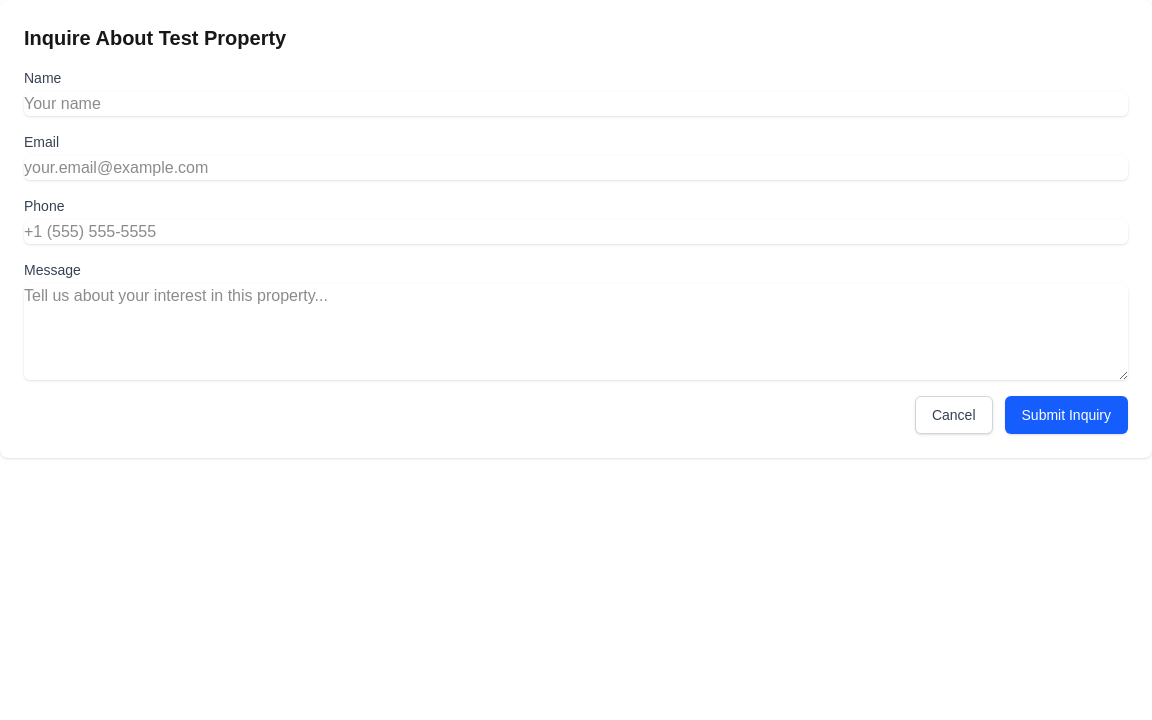
Test case: InquiryForm › shows validation error for invalid email
In the field labelled "Name": (576, 104) [24,92,1128,116], type "John Doe"
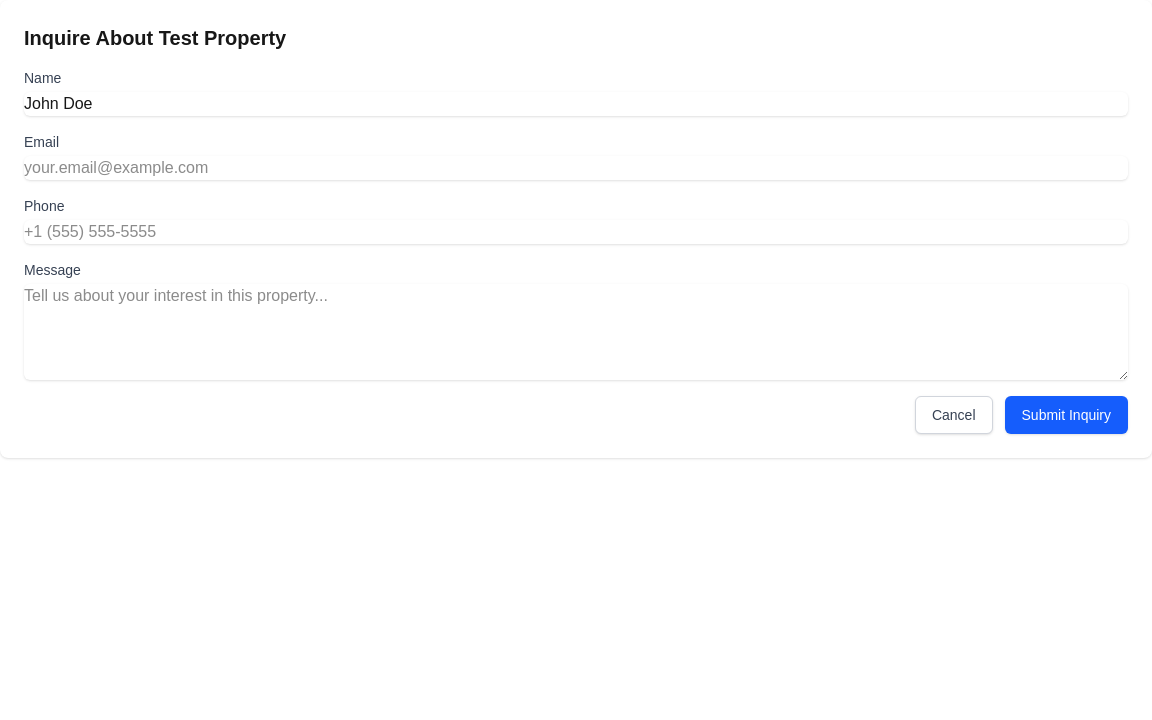
In the field labelled "Email": (576, 168) [24,156,1128,180], type "invalid-email"
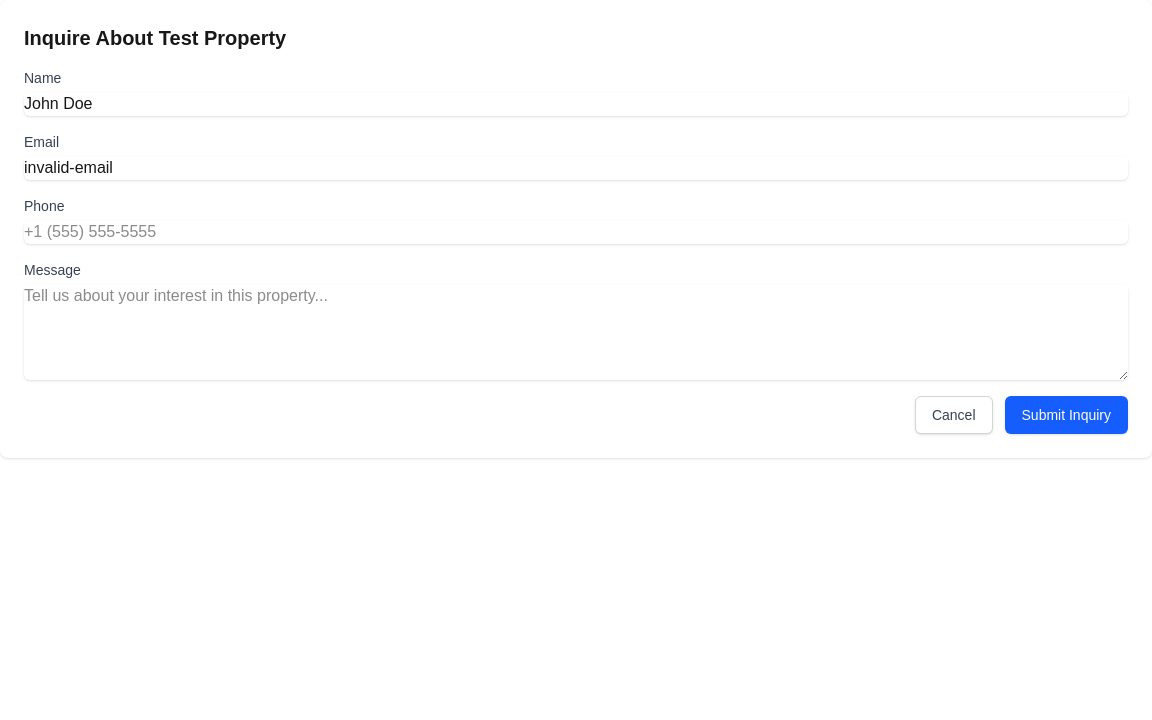
In the field labelled "Phone": (576, 232) [24,220,1128,244], type "+15555555555"
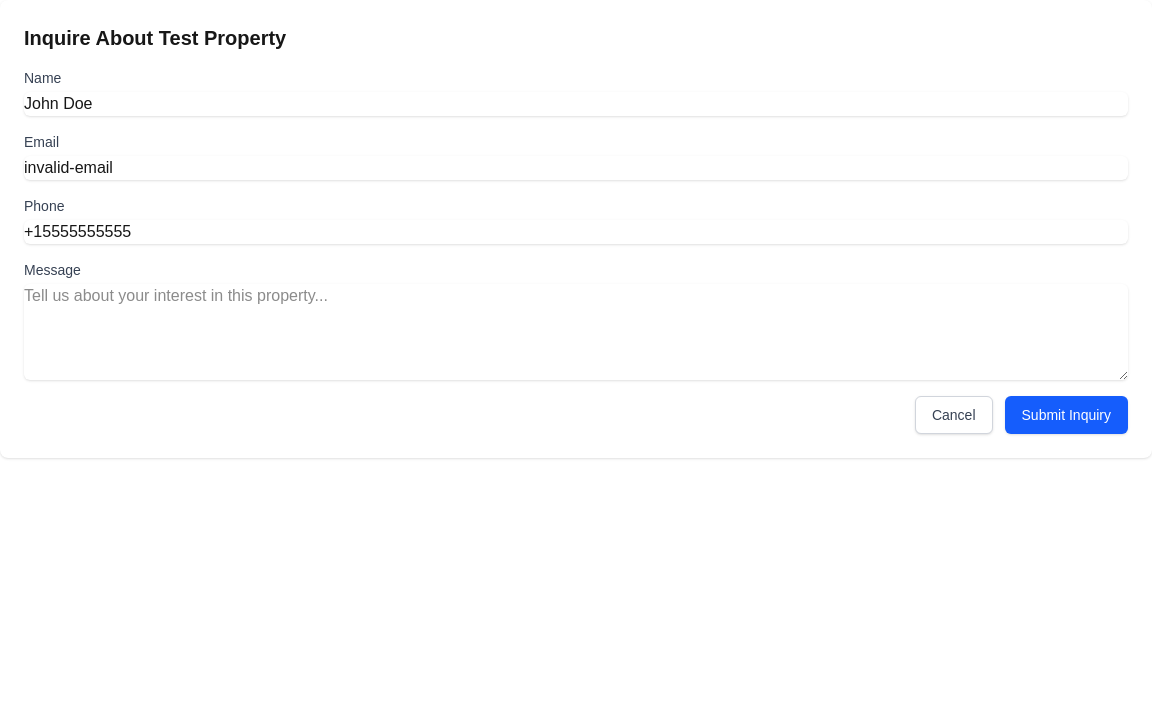
In the text box labelled "Message": (576, 332) [24,284,1128,380], type "Hello"
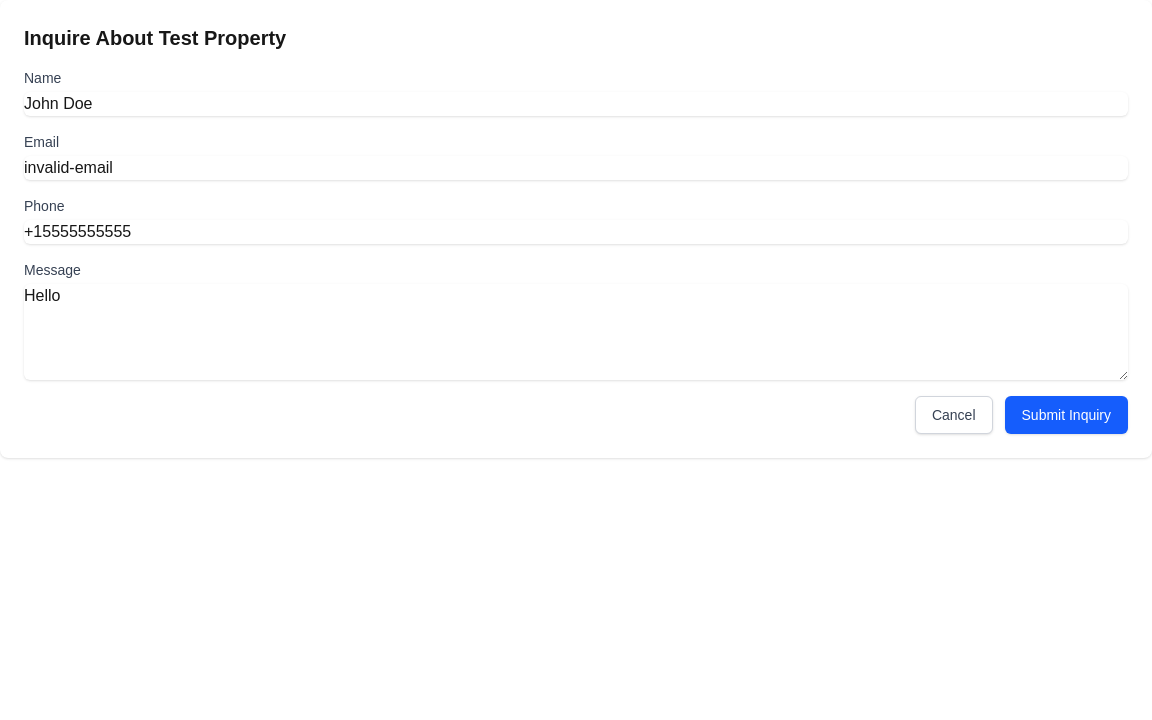
Submit the form with test id "inquiry-form", box [24,68,1128,434]
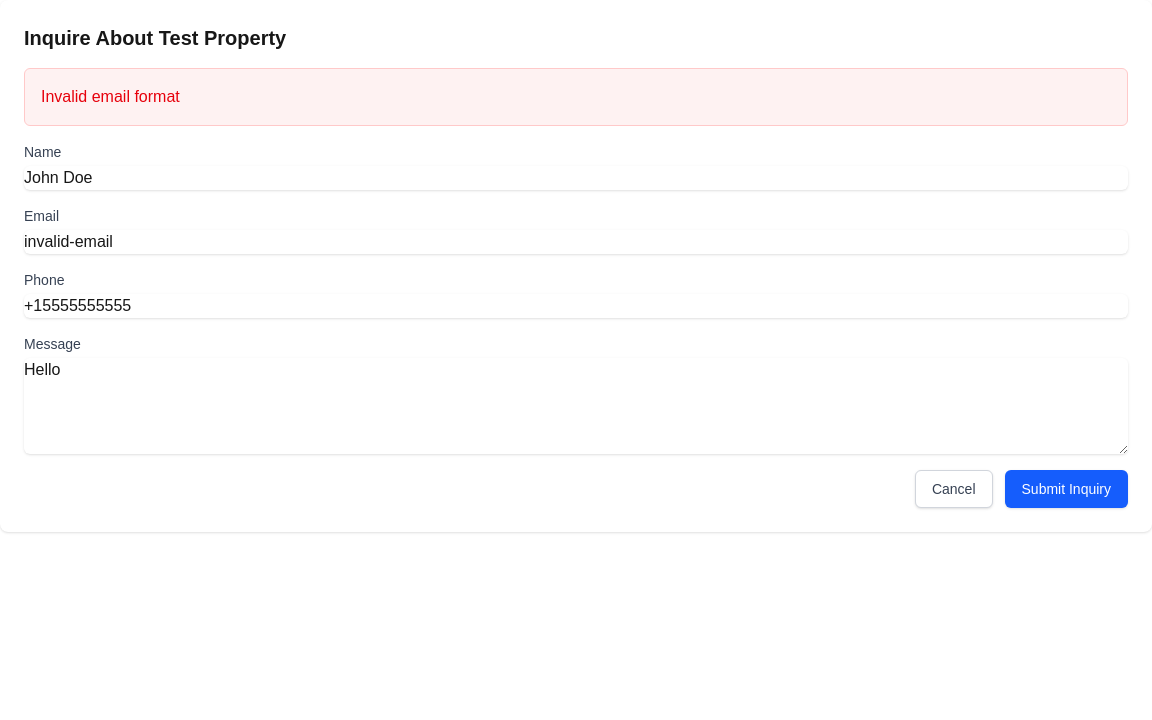
Result: the text "Invalid email format" is shown at [41,88,180,105]
